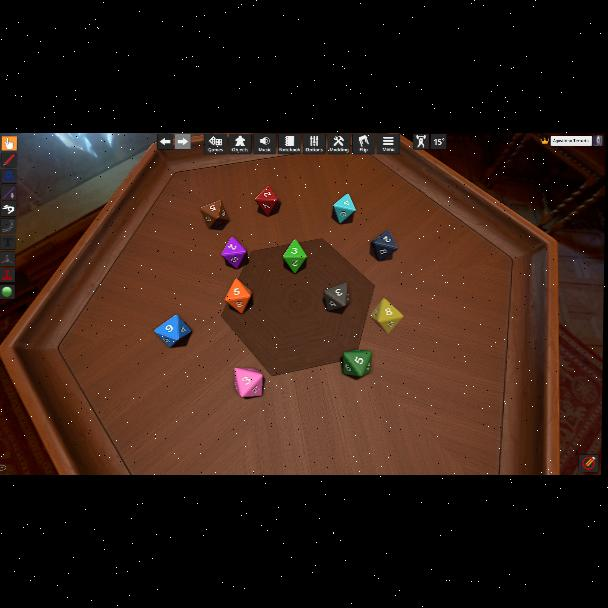d8: (155, 314, 191, 348), (371, 298, 404, 334), (225, 278, 252, 314), (234, 368, 263, 398), (369, 230, 396, 262), (221, 236, 248, 268), (203, 200, 231, 230), (342, 351, 371, 378), (282, 240, 306, 272), (255, 186, 279, 218), (332, 194, 354, 224), (324, 283, 347, 311), (204, 134, 226, 154)
